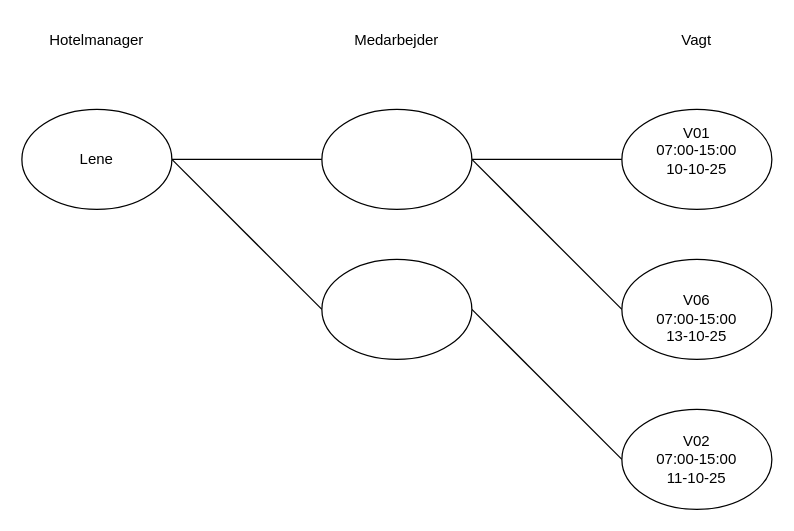
Some shapes in this 794 by 531 pixel diagram are drawn without their labels. The centre of each missing label's shape, as x and y in pixels:
"Noah Rådighedsperiode Receptionist" goes at (396,308).
"Sara Rådighedsperiode Receptionist" goes at (396,158).
